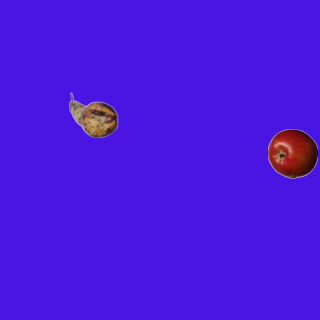Apple Braeburn: (267, 128, 317, 178)
Pear Abate: (68, 90, 118, 140)
